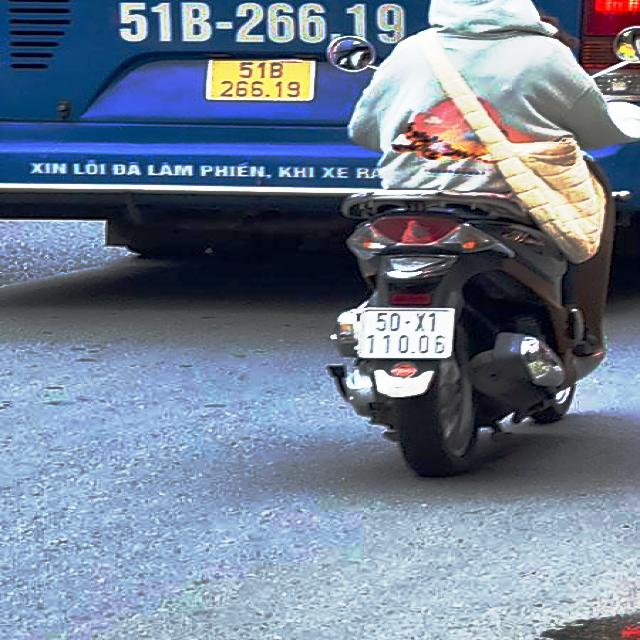license_plate: (359, 305, 455, 357), (208, 59, 315, 100)
